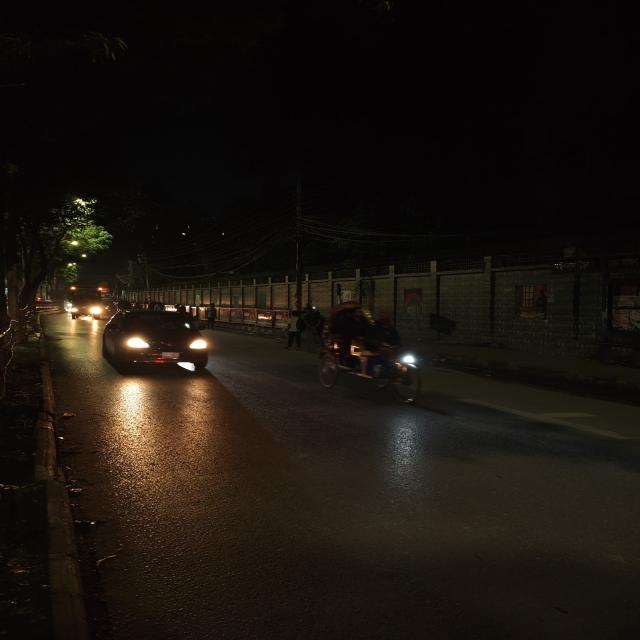car: (97, 307, 218, 376)
pedestrian: (284, 306, 311, 350)
rickshaw: (313, 299, 432, 406)
truck: (66, 286, 103, 320)
